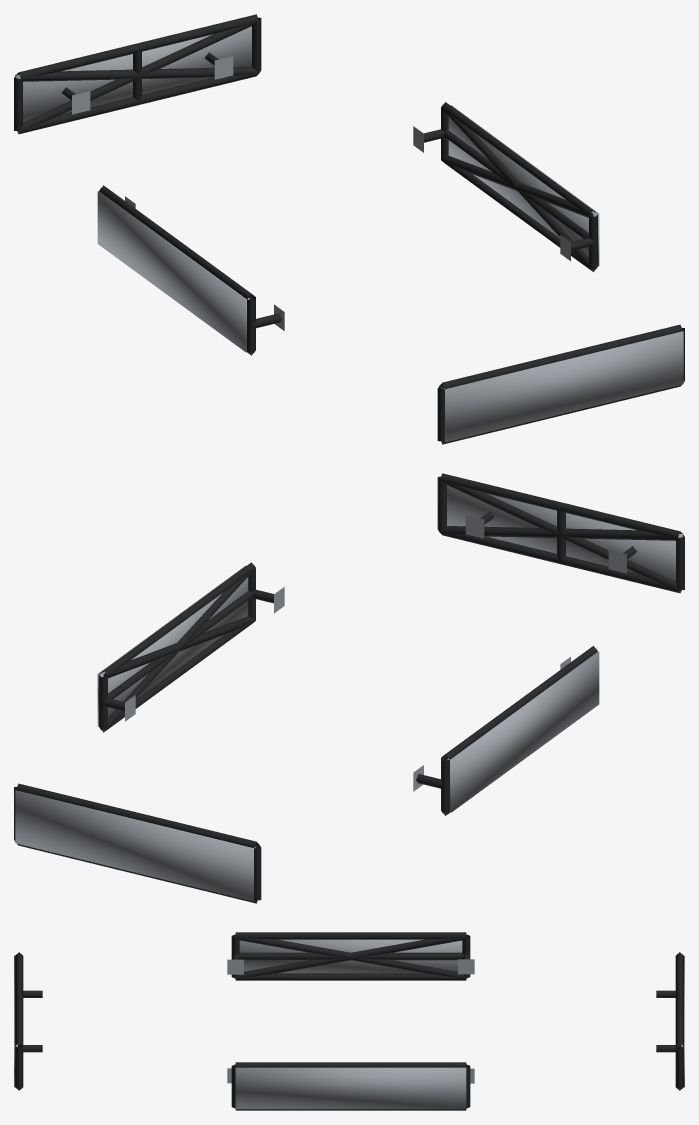
The model's file is varenna_pasta_protecao.glb.
The picture shows the model from 3 angles, top to bottom: view 1: azimuth 30°, elevation 25°; view 2: azimuth 150°, elevation 25°; view 3: azimuth 270°, elevation 25°; orthographic projection. The views are drawn at different scales.
Parts seen in each view (by area): view 1: Protection_front_Level3_Details, Protection_left_Level3_Details, Protection_rear_Level1_Details, Protection_rear_Level3_Details, Protection_right_Level1_Details, Protection_rear_Level2_Details, Protection_right_Level2_Details, Protection_right_Level3_Details, Protection_front_Level1_Details, Protection_left_Level1_Details; view 2: Protection_rear_Level3_Details, Protection_left_Level3_Details, Protection_front_Level1_Details, Protection_front_Level3_Details, Protection_right_Level1_Details, Protection_front_Level2_Details, Protection_right_Level2_Details, Protection_right_Level3_Details, Protection_rear_Level1_Details, Protection_left_Level1_Details; view 3: Protection_right_Level3_Details, Protection_left_Level2_Details, Protection_left_Level1_Details, Protection_left_Level3_Details, Protection_right_Level1_Details, Protection_rear_Level1_Details, Protection_front_Level1_Details.
Boxes of the visible parts, x1,y1,x2,y2 form: Protection_front_Level3_Details: (443,331,683,442); Protection_left_Level3_Details: (97,191,249,352); Protection_rear_Level1_Details: (14,14,261,134); Protection_rear_Level3_Details: (15,26,251,122); Protection_right_Level1_Details: (413,102,597,271); Protection_rear_Level2_Details: (16,21,258,133); Protection_right_Level2_Details: (441,108,596,271); Protection_right_Level3_Details: (448,105,599,266); Protection_front_Level1_Details: (437,324,684,444); Protection_left_Level1_Details: (99,185,284,355); Protection_rear_Level3_Details: (15,790,255,901); Protection_left_Level3_Details: (447,651,599,812); Protection_front_Level1_Details: (437,473,684,593); Protection_front_Level3_Details: (447,485,683,581); Protection_right_Level1_Details: (99,562,284,732); Protection_front_Level2_Details: (440,480,682,592); Protection_right_Level2_Details: (100,569,255,731); Protection_right_Level3_Details: (97,565,248,726); Protection_rear_Level1_Details: (14,783,261,903); Protection_left_Level1_Details: (413,646,597,815); Protection_right_Level3_Details: (235,1067,466,1109); Protection_left_Level2_Details: (235,935,466,978); Protection_left_Level1_Details: (227,932,474,980); Protection_left_Level3_Details: (239,939,462,973); Protection_right_Level1_Details: (227,1062,474,1110); Protection_rear_Level1_Details: (656,952,683,1090); Protection_front_Level1_Details: (15,952,42,1090).
Bounding box in the file's own units: 2.11 × 0.354 × 4.45.
Materials: 1 (1 with a texture image).
